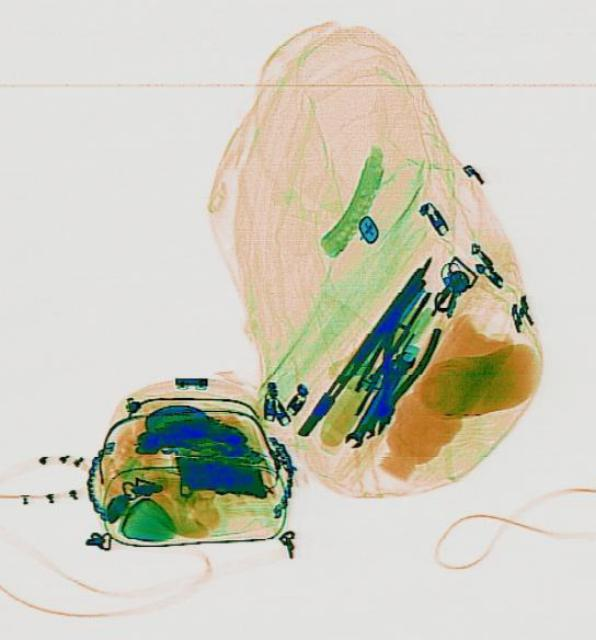Pliers: (350, 310, 440, 440)
Wrench: (336, 342, 417, 452)
